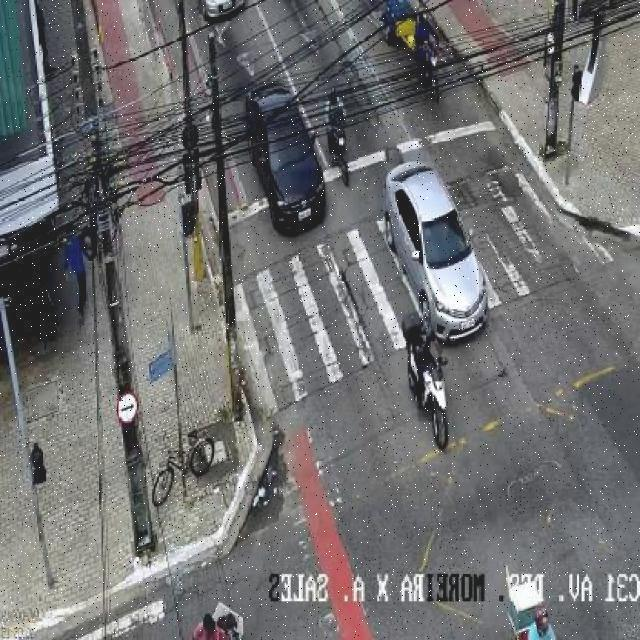Car: (386, 158, 491, 344), (241, 92, 331, 240)
Cycle: (405, 313, 459, 449), (384, 0, 444, 97), (324, 93, 353, 181)
